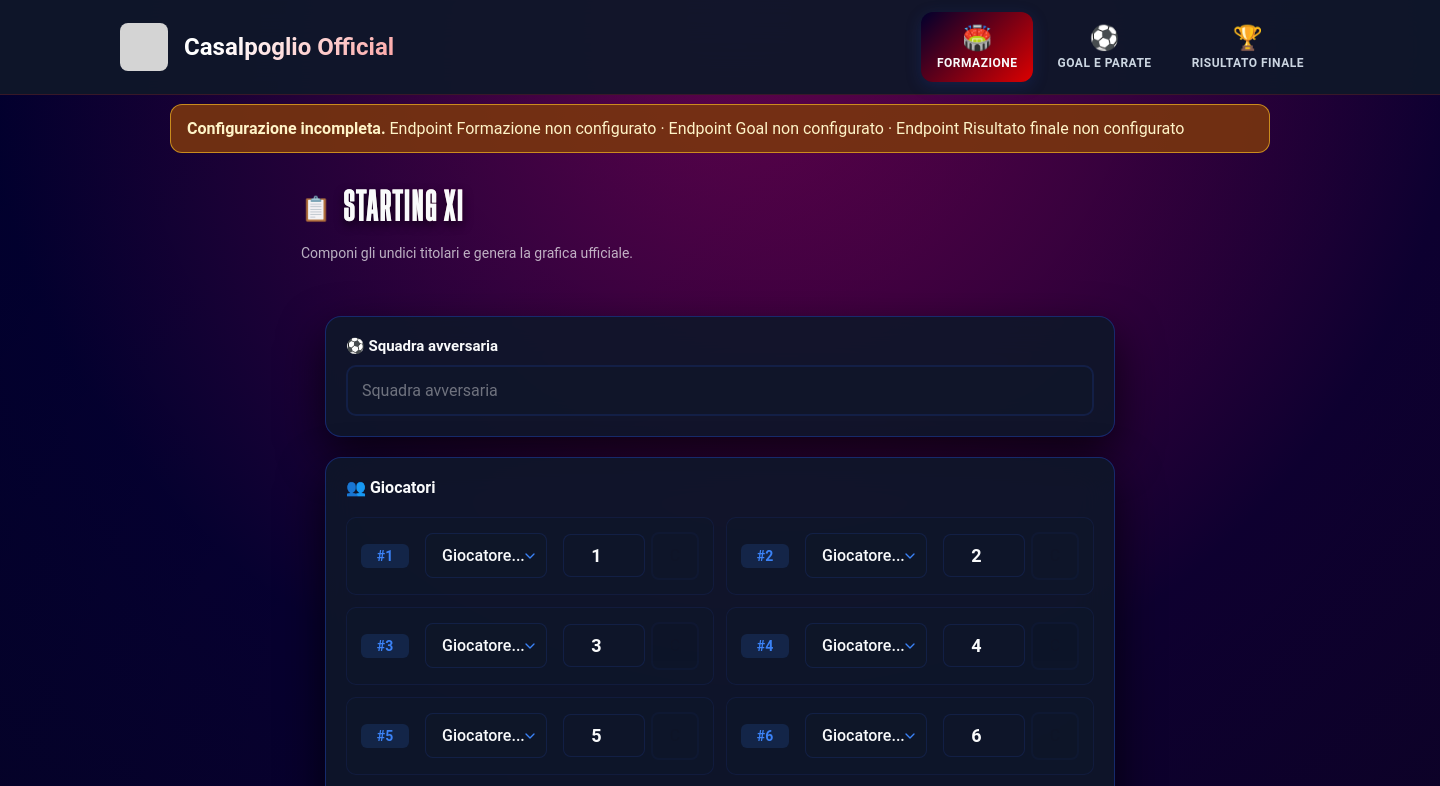
navigazione e accessibilità › passa al flusso Goal senza ricaricare la pagina
The width and height of the screenshot is (1440, 786).
What coordinates should you click on to do the following:
click the button "⚽ Goal e parate"
I would click on:
 (1105, 47)
Its box is [1042, 12, 1168, 82].
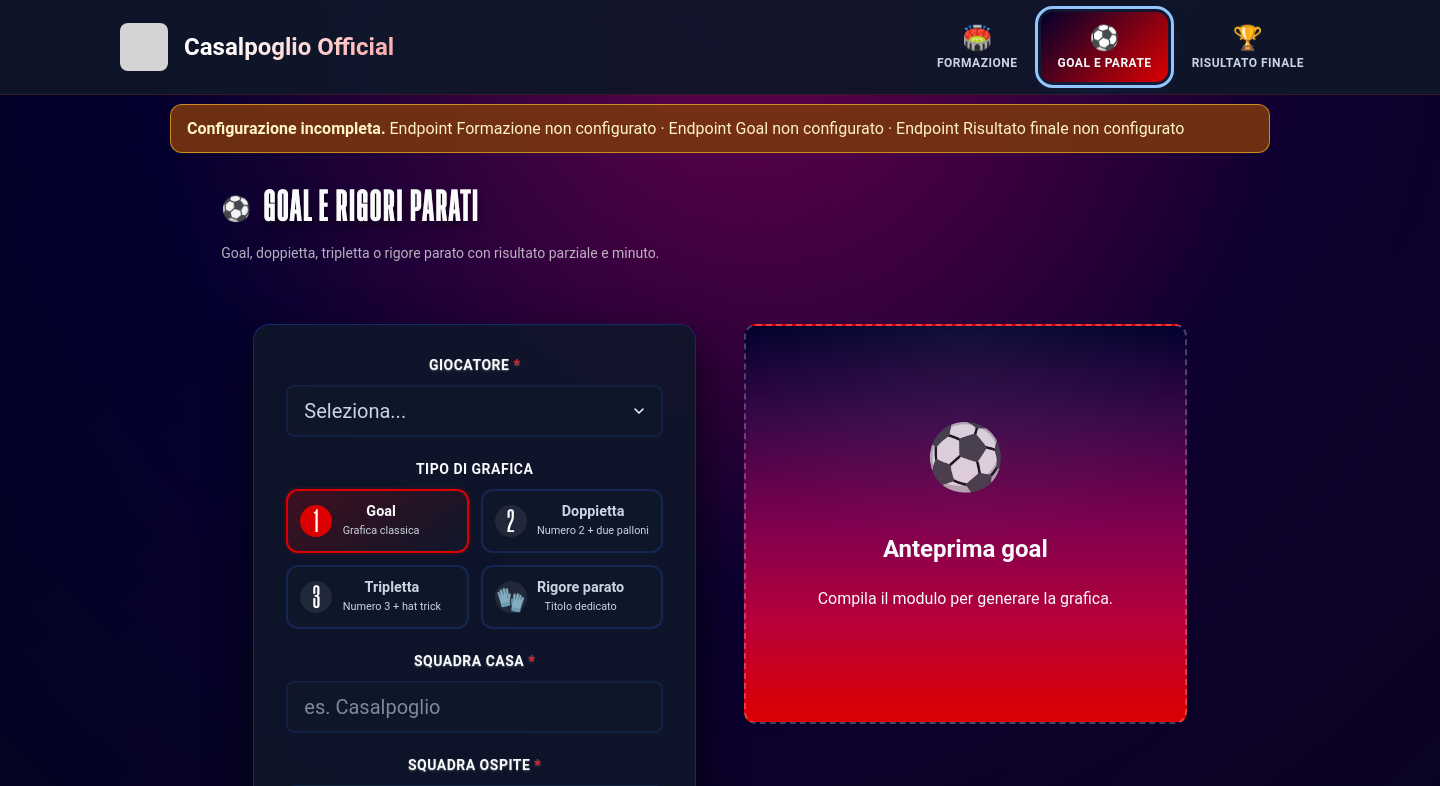
Expected: the heading "Goal e rigori parati" is shown, [263, 185, 479, 232]
Expected: the dropdown labelled "Giocatore" is shown, [286, 385, 663, 437]
Expected: the radio button labelled "2 Doppietta Numero 2 + due palloni" is shown, [481, 489, 663, 553]
What coordinates should you click on to do the following:
click the radio button labelled "🧤 Rigore parato Titolo dedicato"
I would click on:
 (572, 597)
Its box is [481, 565, 663, 629].
(page scrolled)
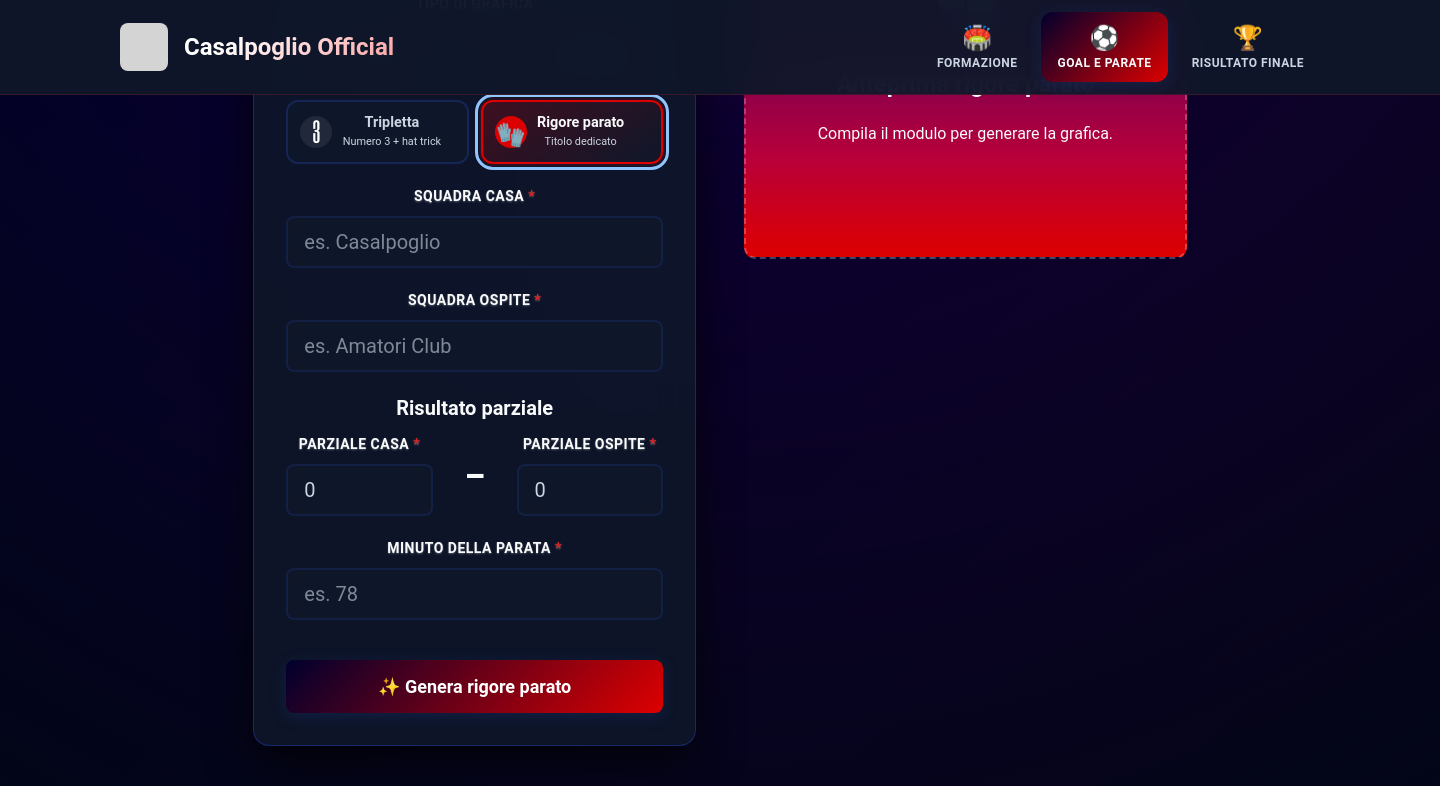
Expected: the number field labelled "Minuto della parata" is shown, [286, 568, 663, 620]
Expected: the button "✨ Genera rigore parato" is shown, [286, 660, 663, 713]
